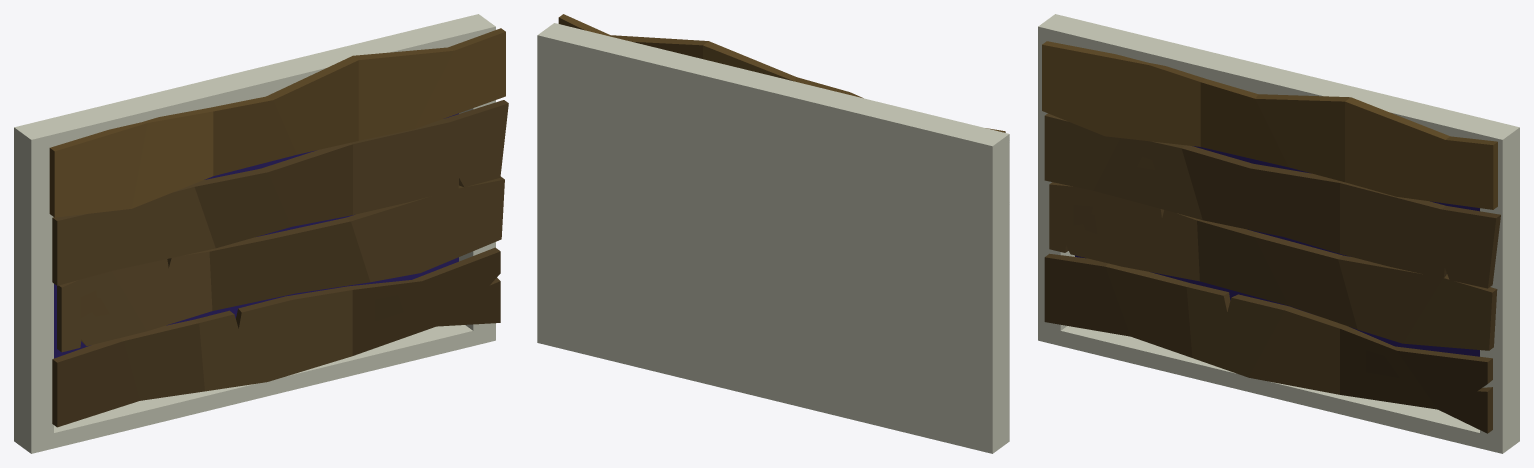
The model's file is Window2.fbx.
3 views of the same model, side by side, from view 1: azimuth 30°, elevation 25°; view 2: azimuth 150°, elevation 25°; view 3: azimuth 330°, elevation 25° (orthographic). The views are drawn at different scales.
Visible parts, largest first — view 1: Cube.017; view 2: Cube.017; view 3: Cube.017.
Part boxes in pixels (x1=…): Cube.017: x1=14, y1=14, x2=508, y2=453; Cube.017: x1=537, y1=14, x2=1009, y2=453; Cube.017: x1=1038, y1=14, x2=1519, y2=453.
Bounding box in the file's own units: 1512 × 1000 × 190.
